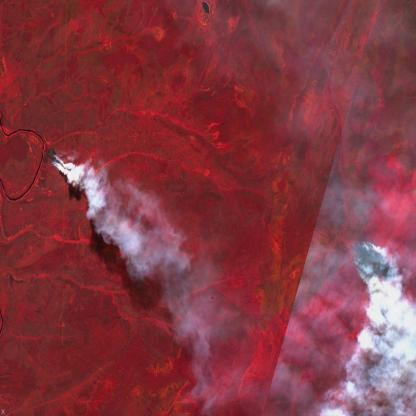fire: (341, 235, 401, 297), (37, 138, 73, 176)
